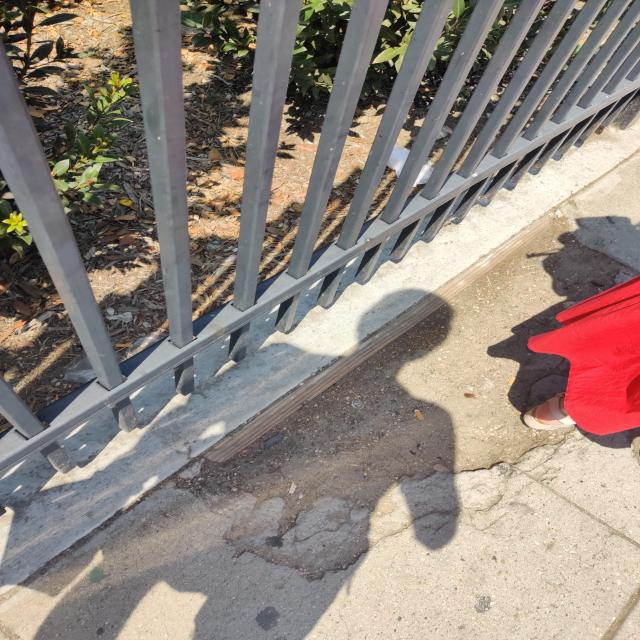litter: (65, 335, 157, 379), (385, 148, 439, 185)
